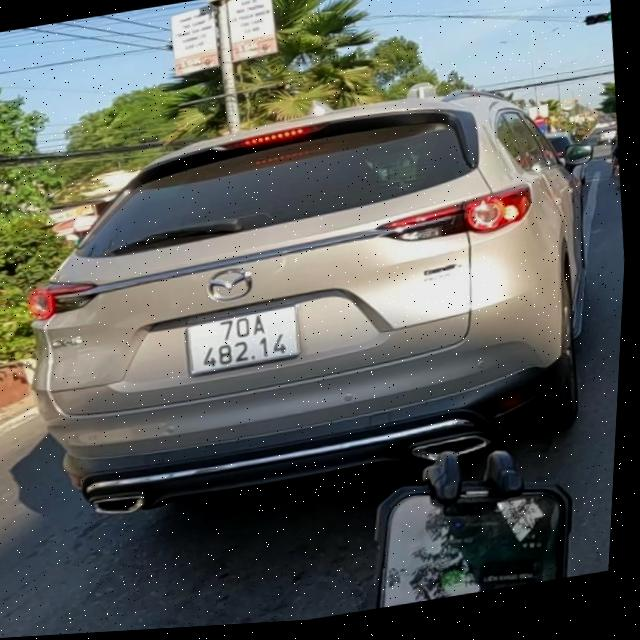car: (0, 72, 623, 540)
plate: (174, 296, 309, 381)
